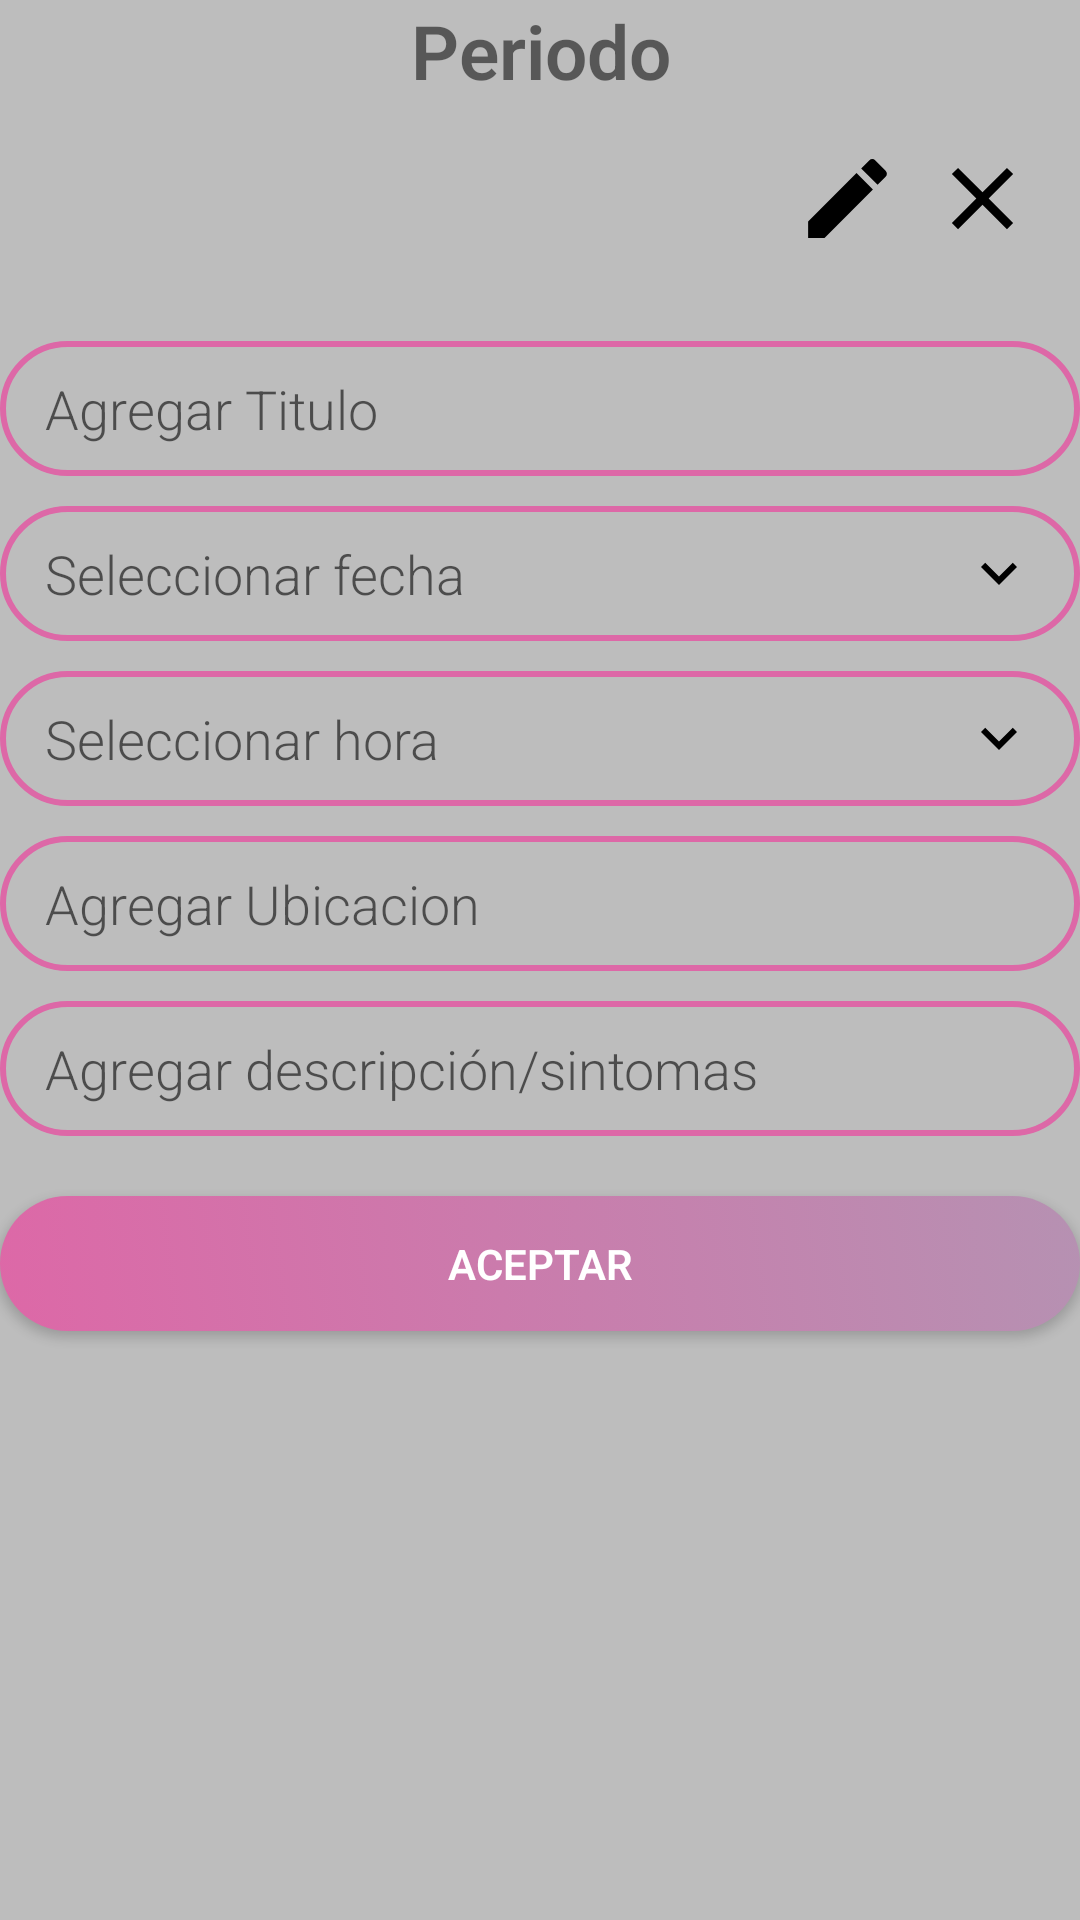

Where icons sit on this 1080×1920 app screen, as {"x1": x1, "y1": y1, "x2": x2, "y2": y2}:
close: {"x1": 952, "y1": 168, "x2": 1013, "y2": 229}
edit: {"x1": 808, "y1": 159, "x2": 887, "y2": 238}
